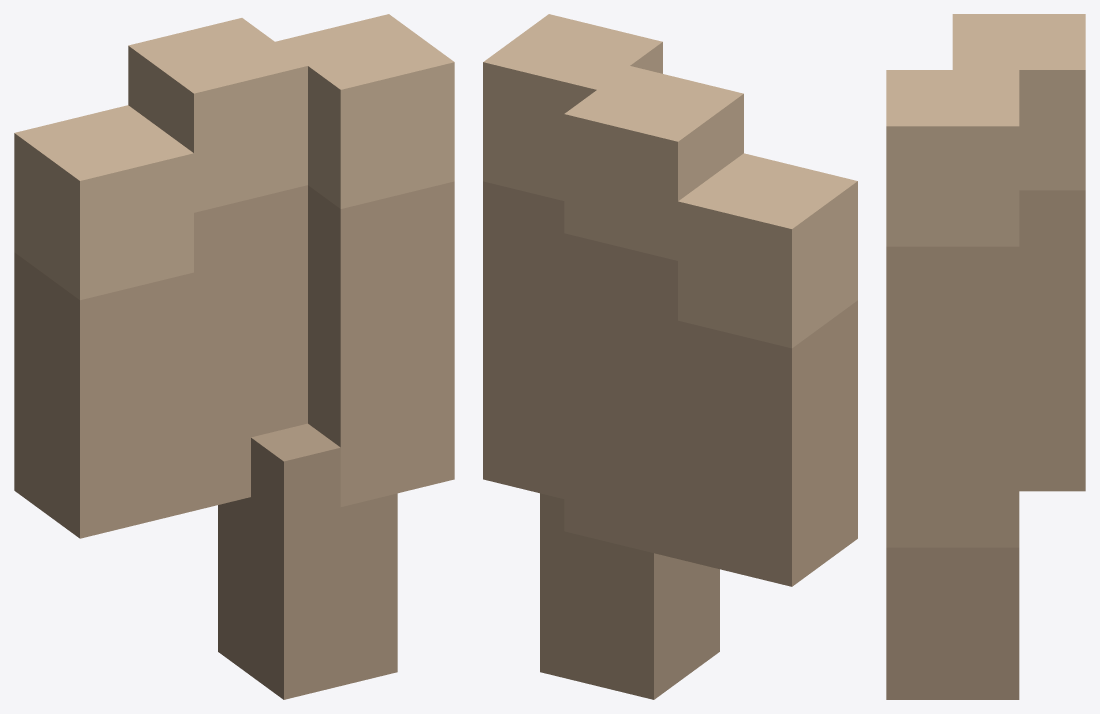
The model's file is coral_cuerno_de_ciervo_04.glb.
The picture shows the model from 3 angles, left to right: view 1: azimuth 30°, elevation 25°; view 2: azimuth 150°, elevation 25°; view 3: azimuth 270°, elevation 25°; orthographic projection.
Parts seen in each view (by area): view 1: coral_cuerno_de_ciervo_04; view 2: coral_cuerno_de_ciervo_04; view 3: coral_cuerno_de_ciervo_04.
Part boxes in pixels (x1,y1,x2,y2): coral_cuerno_de_ciervo_04: [14, 14, 454, 699]; coral_cuerno_de_ciervo_04: [483, 14, 857, 699]; coral_cuerno_de_ciervo_04: [886, 14, 1085, 699].
Size of the model in its own units: 0.6 by 1 by 0.3.
